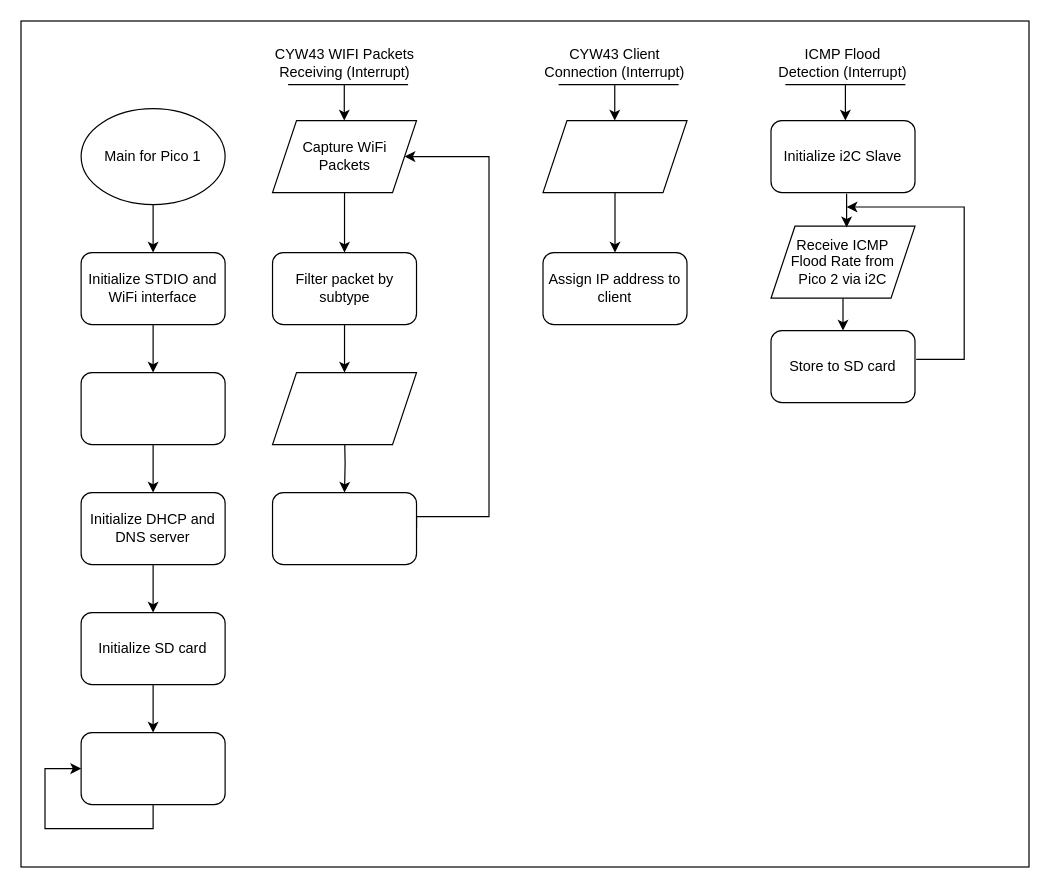
This 1050x888 diagram has some shape labels left out. The centre of each missing label's shape, as x and y in pixels:
"Enable CYW43 WiFi AP and monitor mode" goes at (x=152, y=408).
"Receive client connection" goes at (x=614, y=156).
"Set WiFi AP channel" goes at (x=152, y=768).
"Store file in SD card" goes at (x=344, y=528).
"Write to file" goes at (x=344, y=408).
